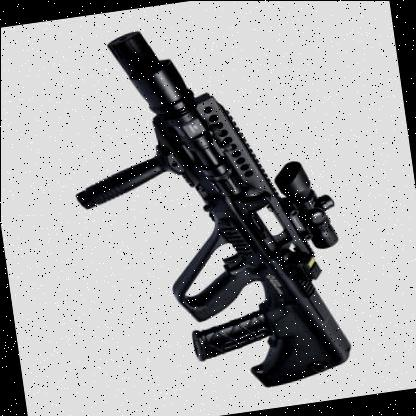rifle: (56, 0, 387, 410)
